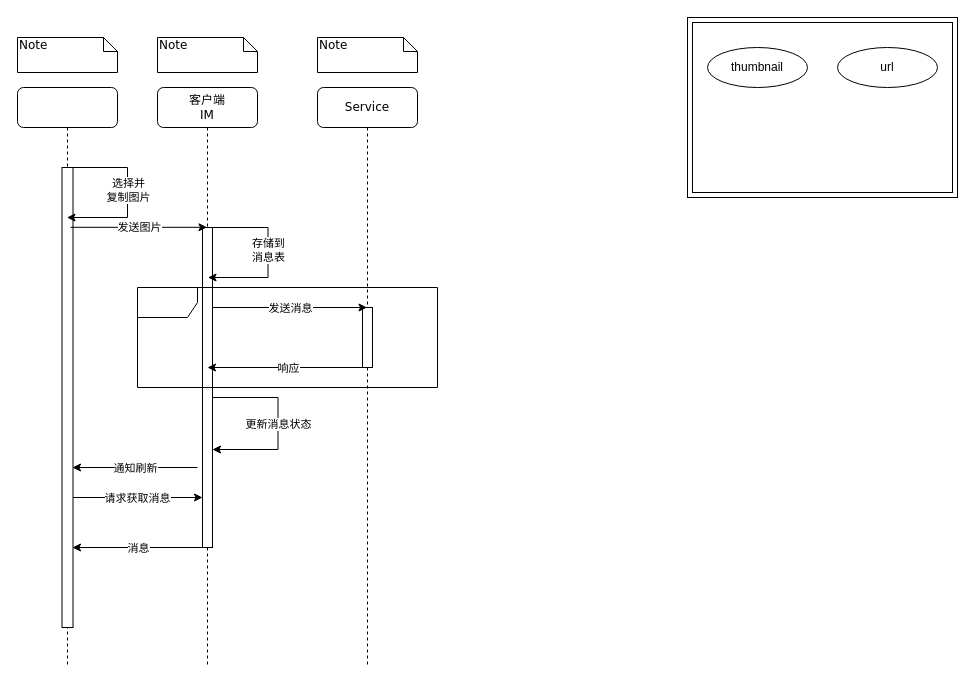
Some shapes in this 975 by 685 pixel diagram are drawn without their labels. The box of each missing label's shape, as (x1, y1, x2, y2) in pixels:
APP: (16, 86, 118, 668)
content: (686, 16, 958, 198)
loop: (136, 286, 438, 388)
